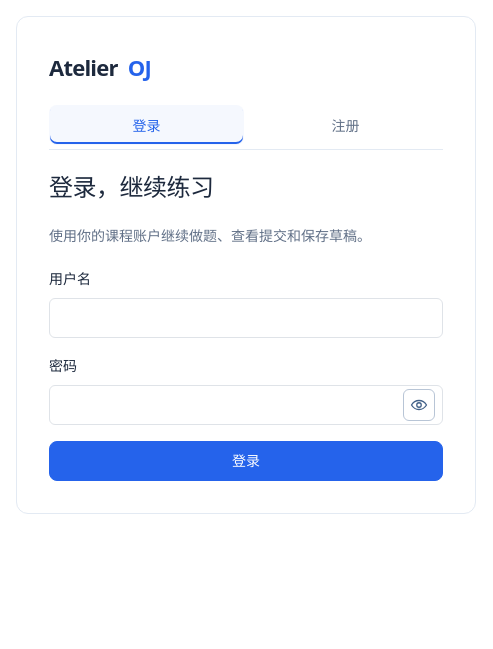
Test: keeps rate-limit guidance visible without allowing duplicate submits
The image size is (493, 649).
In the field labelled "用户名": (246, 318) [49, 298, 443, 338], type "alice"
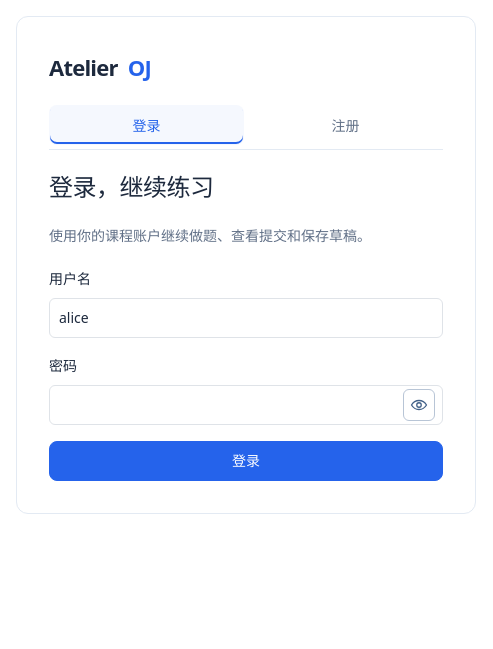
In the password field labelled "密码": (246, 405) [49, 385, 443, 425], type "wrongpw"
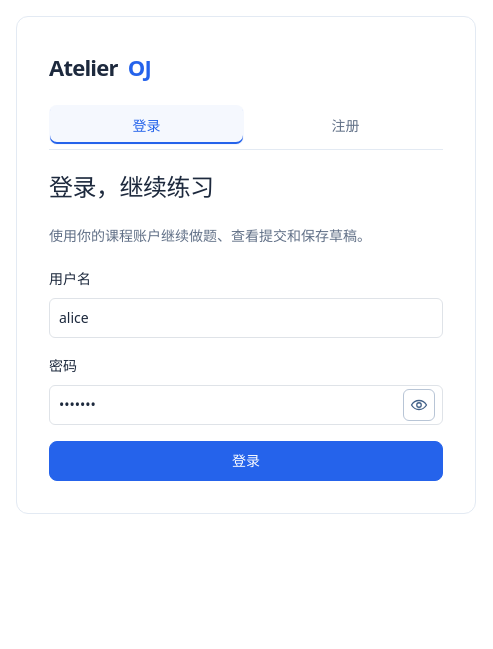
Submit the form "登录", box [49, 267, 443, 481]
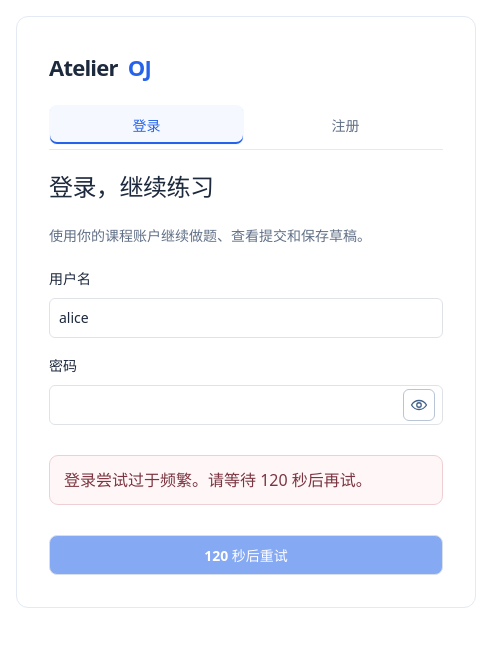
Now the message shows "请等待 120 秒后再试", box [64, 469, 372, 491]
Now the button "120 秒后重试" is disabled, box [49, 535, 443, 575]
Submit the form "登录", box [49, 267, 443, 575]
Click the tab "注册": (346, 125) [248, 105, 443, 145]
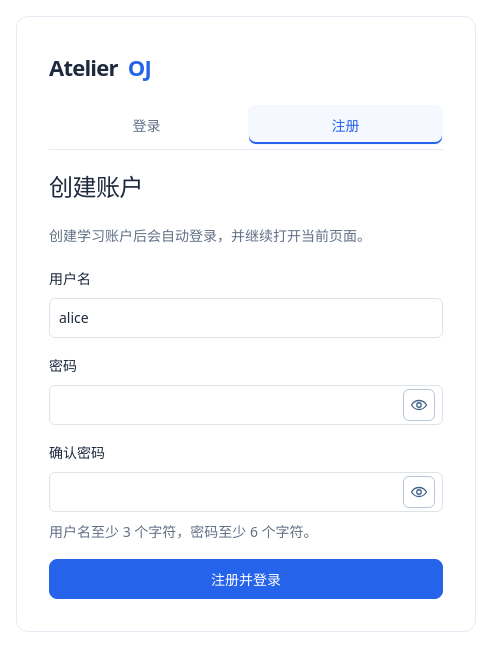
Now the button "注册并登录" is enabled, box [49, 559, 443, 599]
